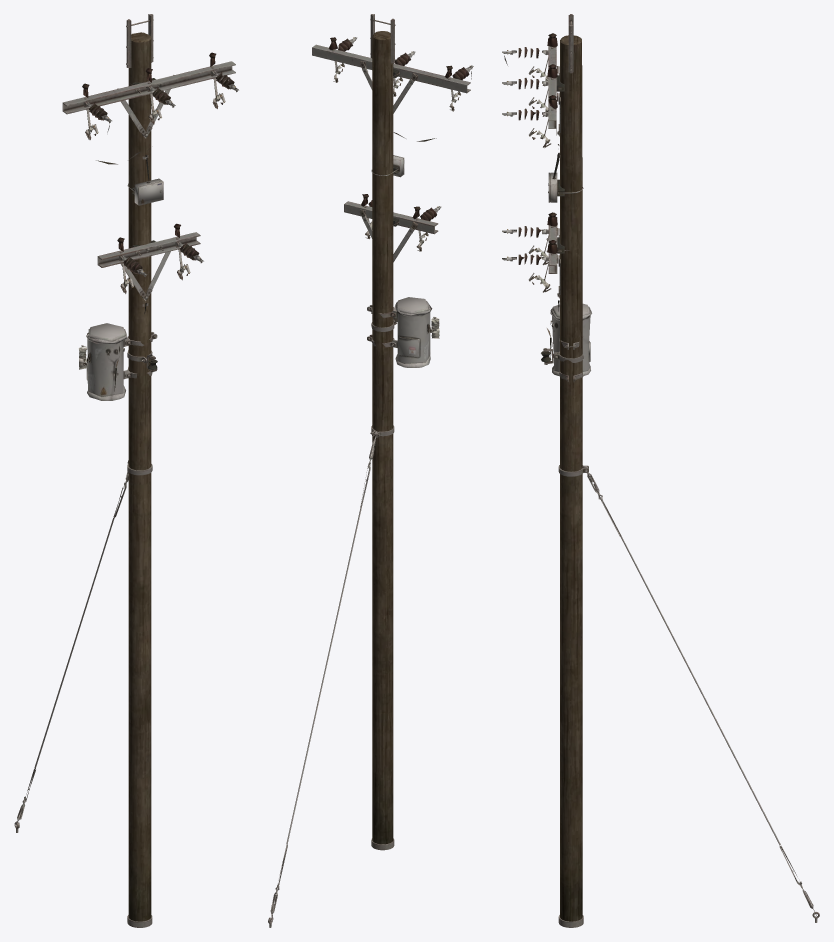
File: power_pole.glb
3 views of the same model, side by side, from view 1: azimuth 30°, elevation 25°; view 2: azimuth 150°, elevation 25°; view 3: azimuth 270°, elevation 25° (orthographic). The views are drawn at different scales.
Visible parts, largest first — view 1: preset_01_pole, preset_01_cap; view 2: preset_01_pole, preset_01_cap; view 3: preset_01_pole, preset_01_cap.
Boxes of the visible parts, <box> form: preset_01_pole: <box>128,32,151,921</box>; preset_01_cap: <box>14,14,238,927</box>; preset_01_pole: <box>372,31,393,844</box>; preset_01_cap: <box>268,14,473,927</box>; preset_01_pole: <box>560,35,582,921</box>; preset_01_cap: <box>502,14,819,927</box>.
Size of the model in its own units: 1.2 by 6.13 by 1.96.
Materials: 2 (2 with a texture image).
